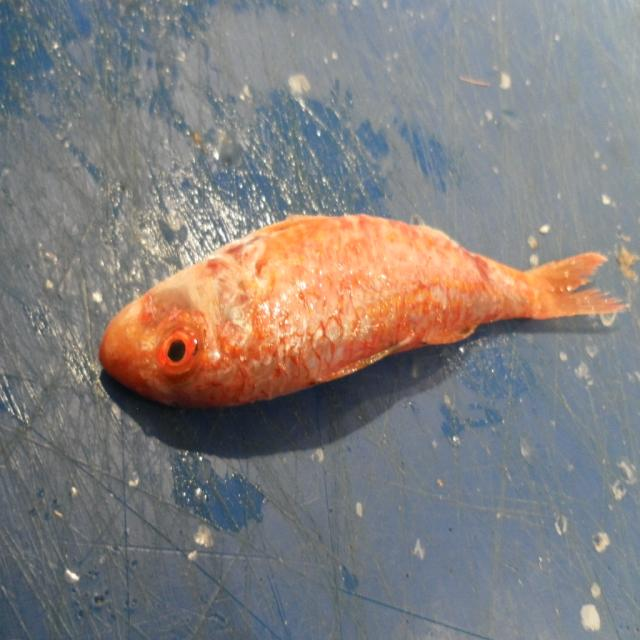Red-Mullet-kefal-: (99, 215, 625, 412)
